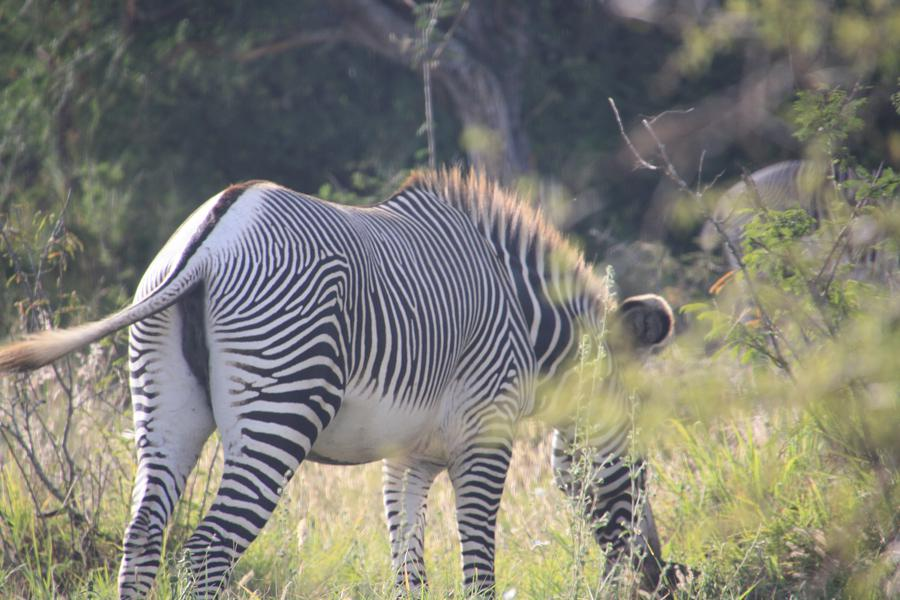zebra_grevys: (208, 165, 526, 424)
